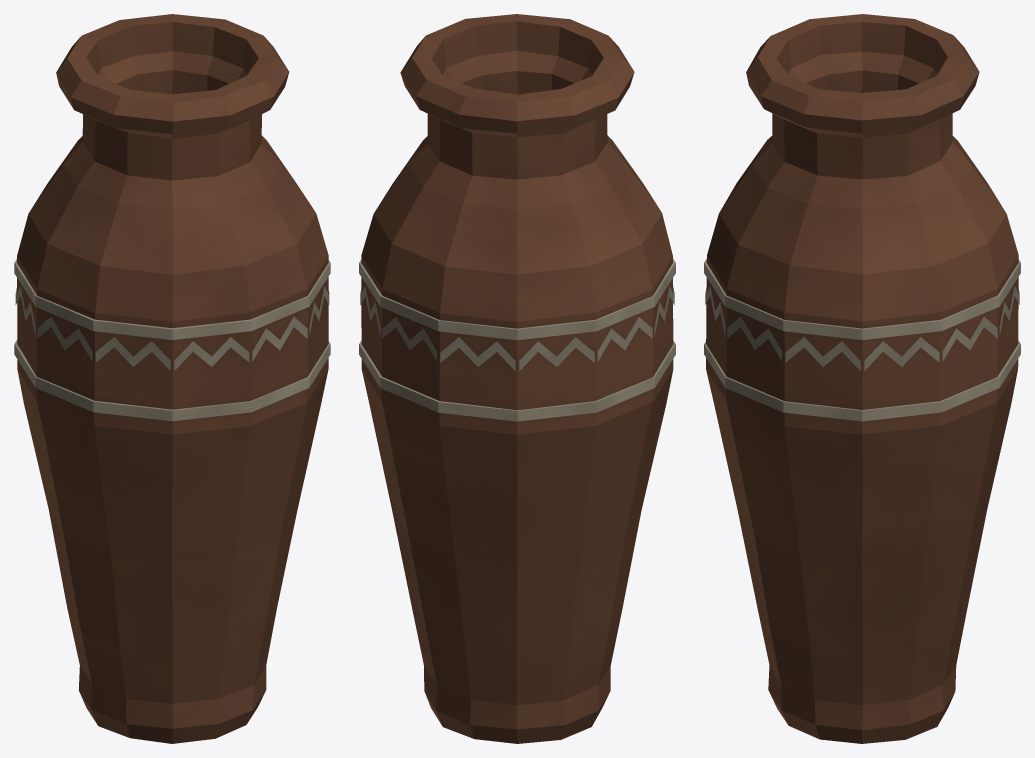
The model's file is vase_clay_01_godot.glb.
3 views of the same model, side by side, from view 1: azimuth 30°, elevation 25°; view 2: azimuth 150°, elevation 25°; view 3: azimuth 270°, elevation 25° (orthographic).
Visible parts, largest first — view 1: vase_clay_01; view 2: vase_clay_01; view 3: vase_clay_01.
Boxes of the visible parts, left/top/right/bottom form: vase_clay_01: left=14, top=14, right=330, bottom=743; vase_clay_01: left=359, top=14, right=675, bottom=743; vase_clay_01: left=704, top=14, right=1020, bottom=743.
Size of what is drawn, in the model's own units: 0.406 by 0.9218 by 0.406.
Materials: 2 (2 with a texture image).
